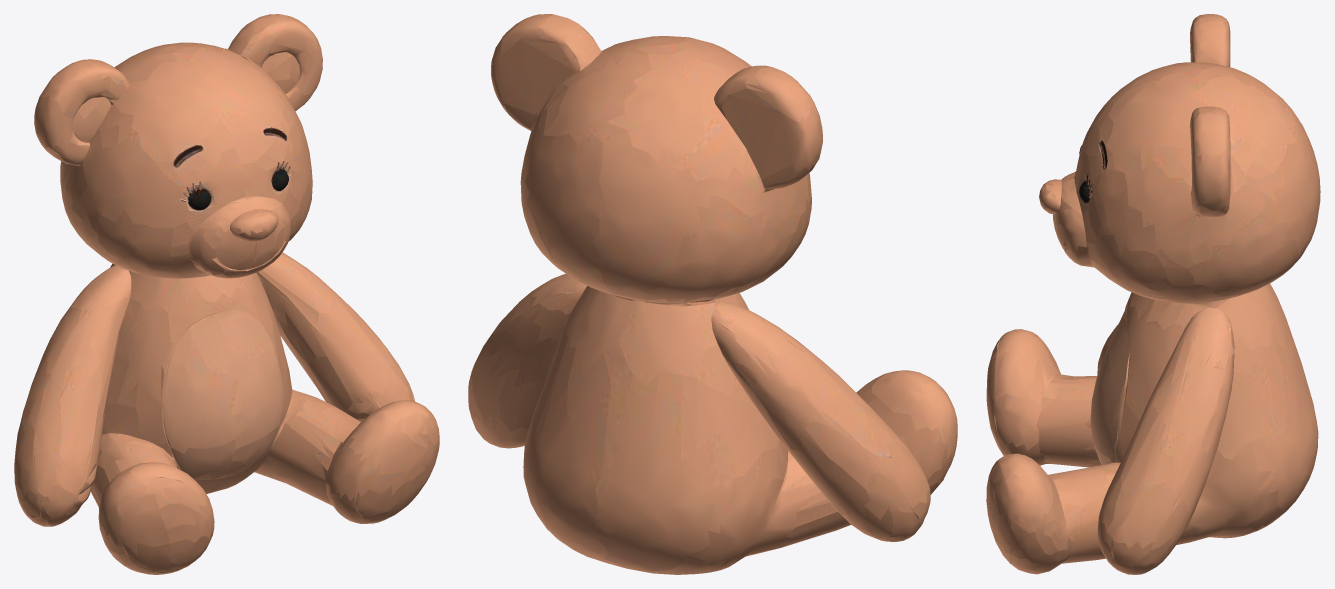
File: teddy.49af2add.glb
3 views of the same model, side by side, from view 1: azimuth 30°, elevation 25°; view 2: azimuth 150°, elevation 25°; view 3: azimuth 270°, elevation 25° (orthographic). The views are drawn at different scales.
Parts seen in each view (by area): view 1: output_unwrapped; view 2: output_unwrapped; view 3: output_unwrapped.
Boxes of the visible parts, left/top/right/bottom form: output_unwrapped: left=14, top=14, right=439, bottom=574; output_unwrapped: left=468, top=14, right=957, bottom=574; output_unwrapped: left=986, top=14, right=1320, bottom=574.
Size of the model in its own units: 1.75 by 1.9 by 1.28.
1 material, 1 textured.
